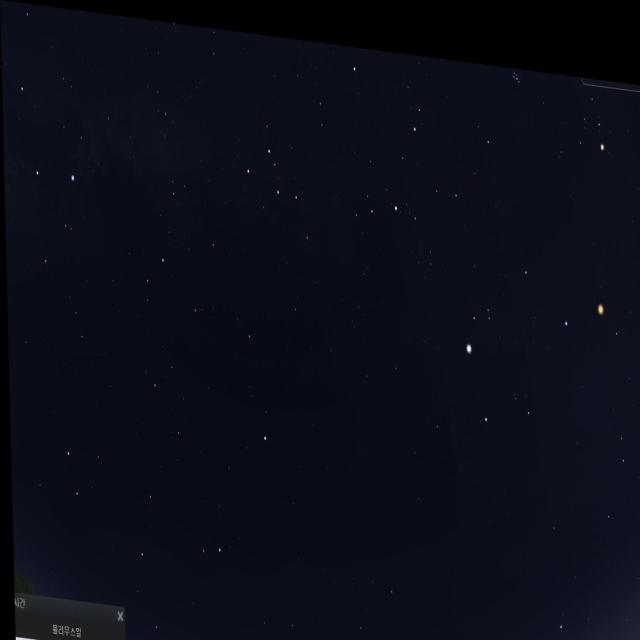cassiopeia: (240, 116, 316, 240)
pleiades: (506, 54, 530, 84)
